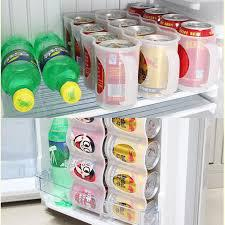beer: (59, 1, 215, 109)
